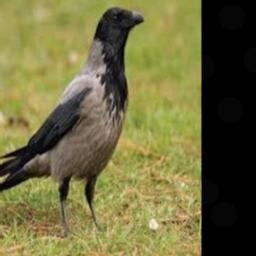Crow: (0, 5, 143, 232)
